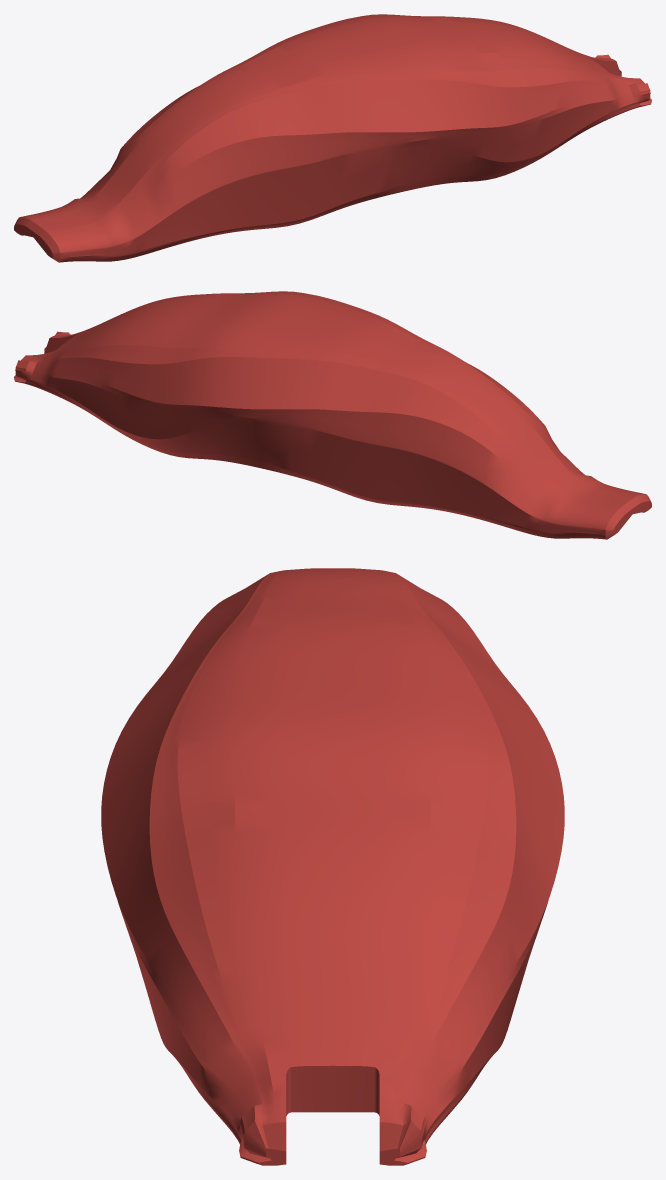
Rendered from sports_tourer_5_lod1.glb.
3 views of the same model, one above another, from view 1: azimuth 30°, elevation 25°; view 2: azimuth 150°, elevation 25°; view 3: azimuth 270°, elevation 25° (orthographic). The views are drawn at different scales.
Visible parts, largest first — view 1: sports_tourer_5_lod1; view 2: sports_tourer_5_lod1; view 3: sports_tourer_5_lod1.
Boxes of the visible parts, bbox=[...] form: sports_tourer_5_lod1: bbox=[14, 14, 651, 262]; sports_tourer_5_lod1: bbox=[14, 291, 651, 539]; sports_tourer_5_lod1: bbox=[101, 568, 564, 1165].
Bounding box in the file's own units: 1.29 × 0.2776 × 0.43.
